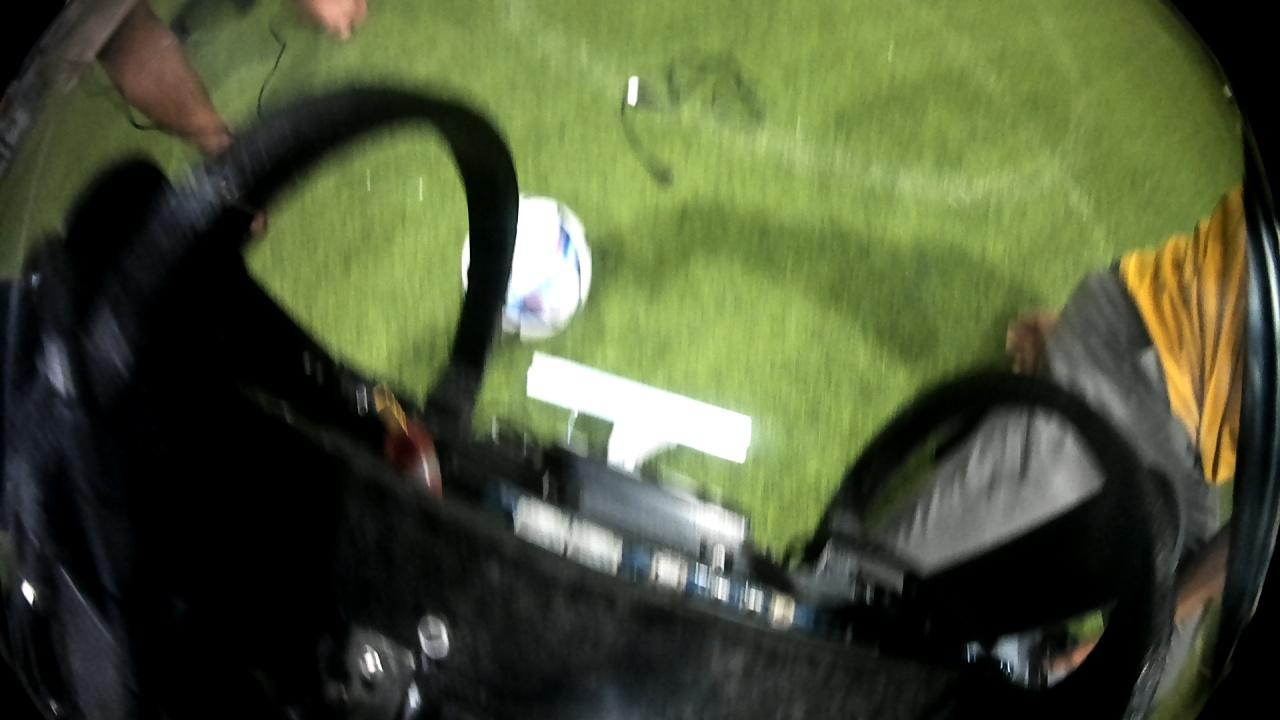ball: (460, 192, 594, 347)
